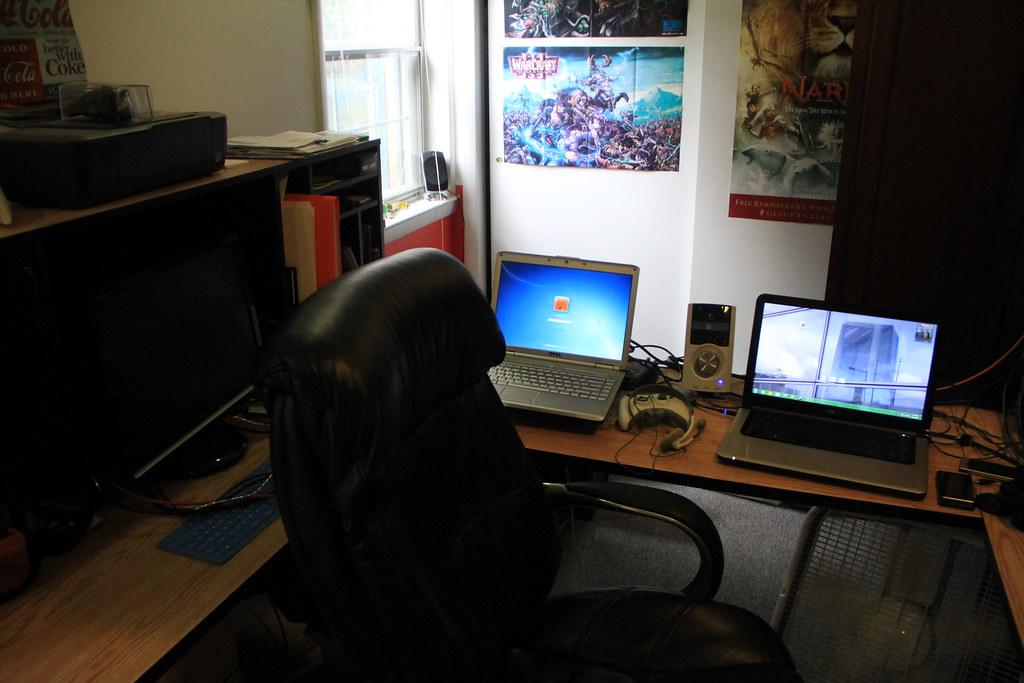computer: (76, 229, 265, 488), (716, 293, 942, 499), (487, 250, 641, 424)
